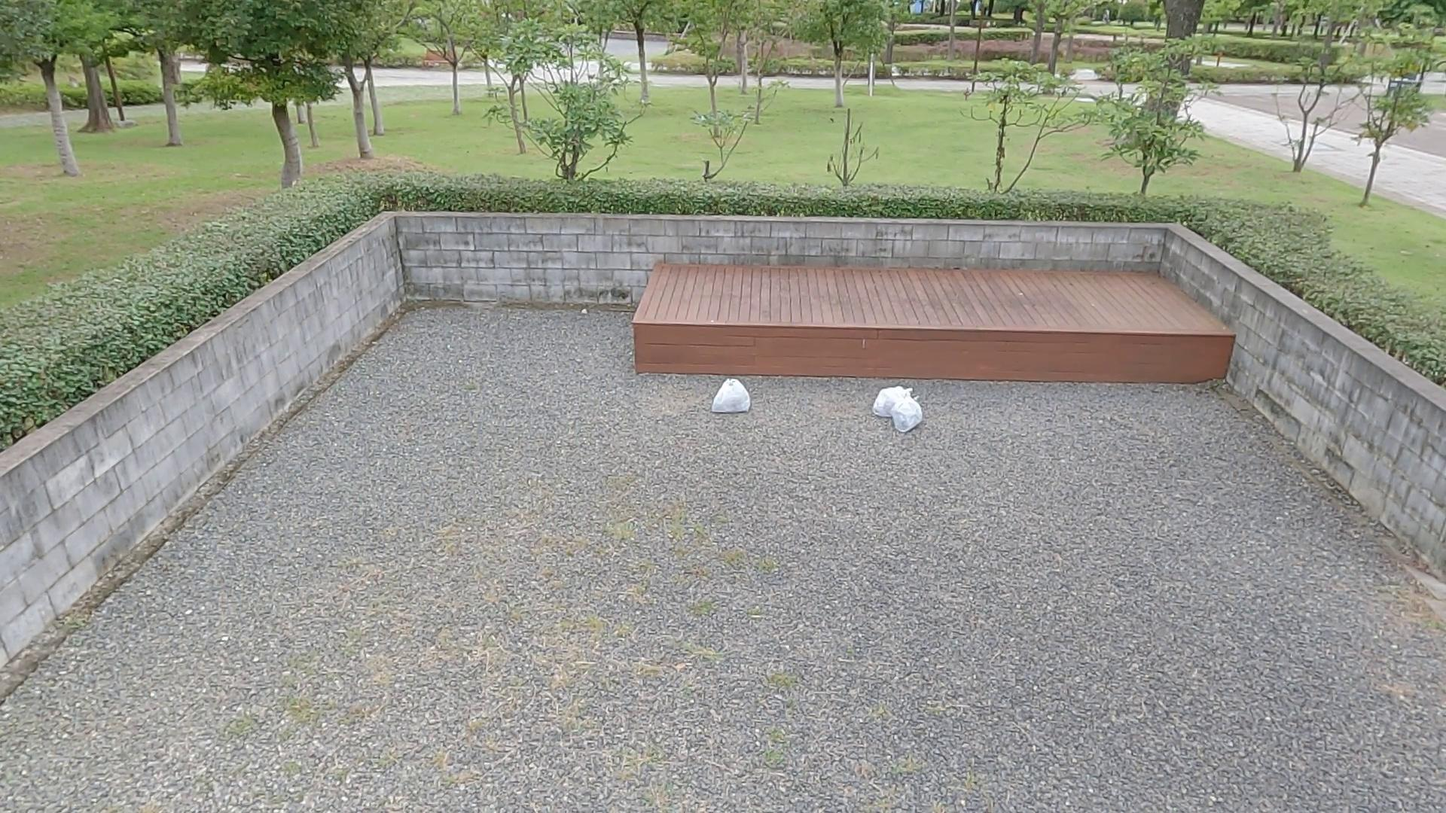trash: (694, 374, 759, 424), (872, 383, 918, 423), (890, 394, 926, 440)
